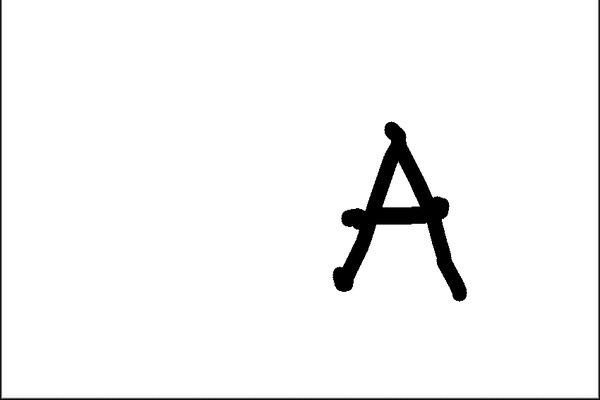A: (319, 115, 478, 313)
